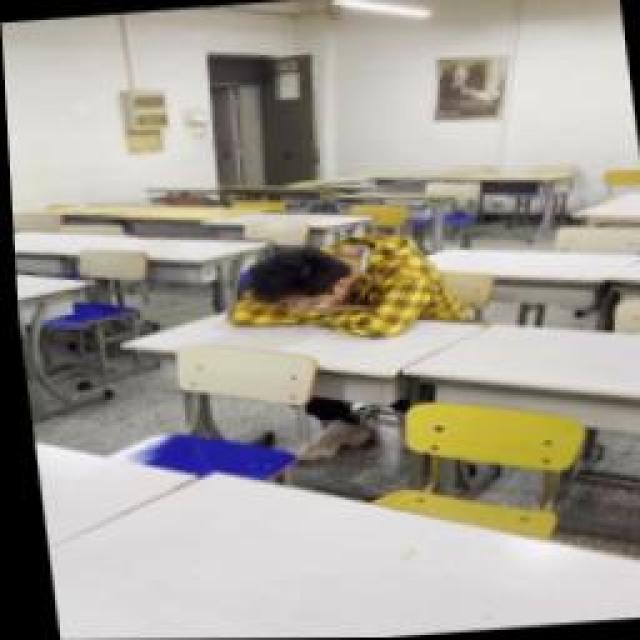sleep: (210, 232, 448, 338)
